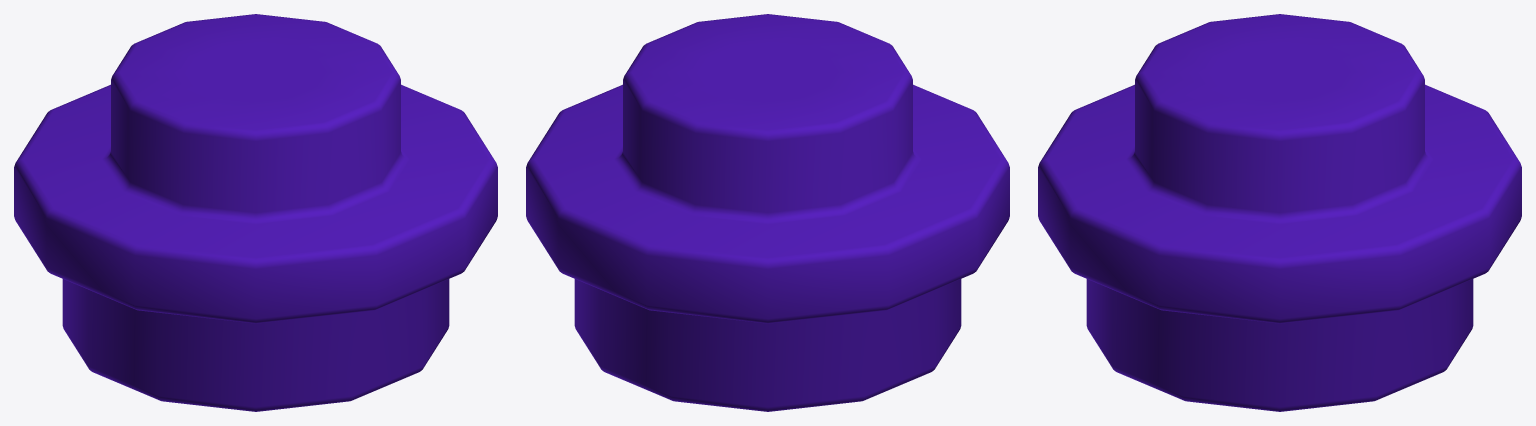
File: LEGO_Purple_Coin.fbx
3 views of the same model, side by side, from view 1: azimuth 30°, elevation 25°; view 2: azimuth 150°, elevation 25°; view 3: azimuth 270°, elevation 25° (orthographic).
Visible parts, largest first — view 1: Stud_Purple; view 2: Stud_Purple; view 3: Stud_Purple.
Boxes of the visible parts, <box> form: Stud_Purple: <box>14,14,497,411</box>; Stud_Purple: <box>526,14,1009,411</box>; Stud_Purple: <box>1038,14,1521,411</box>.
Bounding box in the file's own units: 27.94 × 27.94 × 16.62.
